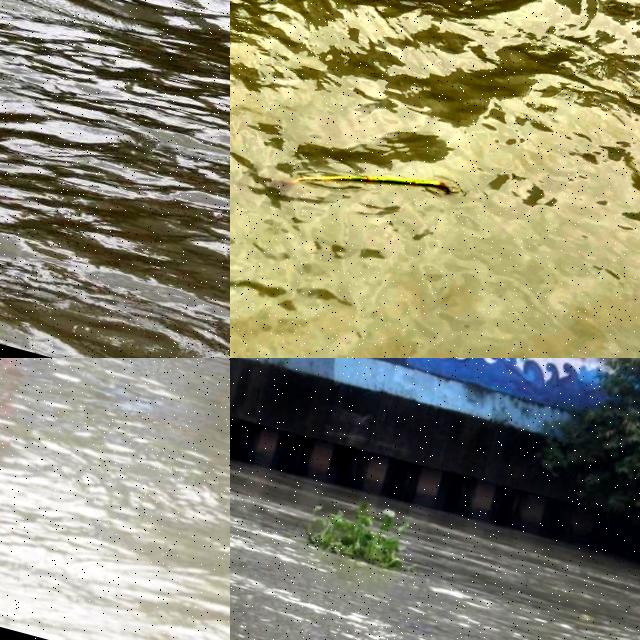water-hyacinth: (301, 485, 412, 572)
